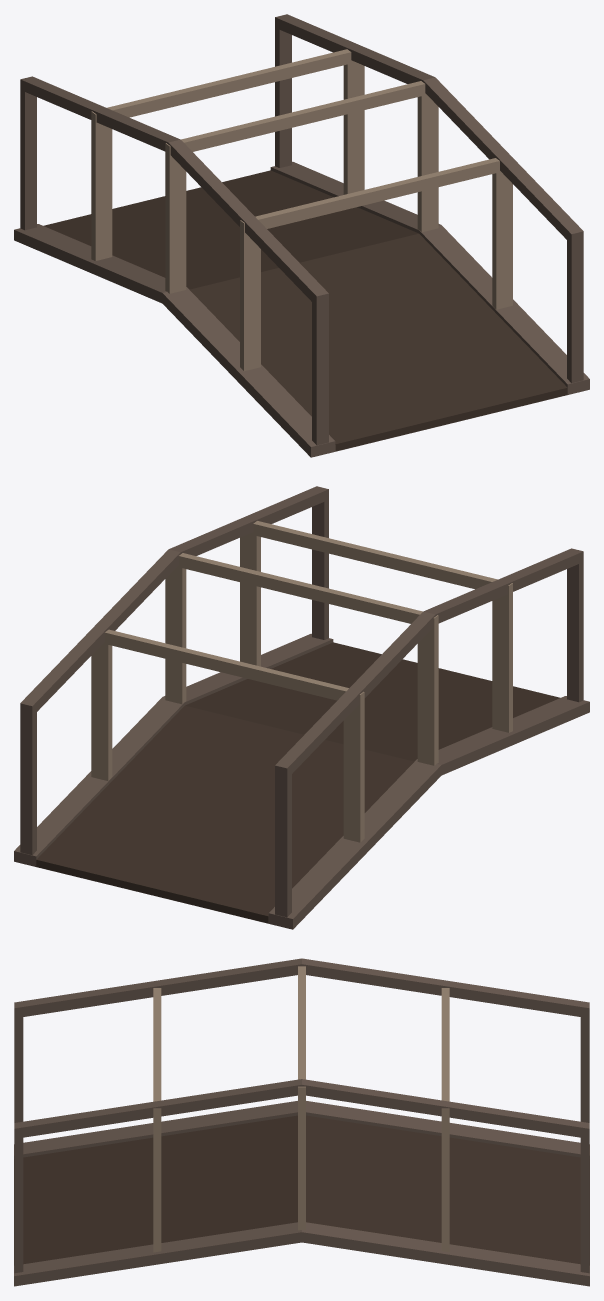
File: Bridge 1.fbx
3 views of the same model, one above another, from view 1: azimuth 30°, elevation 25°; view 2: azimuth 150°, elevation 25°; view 3: azimuth 270°, elevation 25° (orthographic). The views are drawn at different scales.
Visible parts, largest first — view 1: Cube.005, Cube, Cube.001, Cube.002, Cube.004, Cube.003, Cube.006; view 2: Cube.005, Cube, Cube.001, Cube.002, Cube.006, Cube.003, Cube.004; view 3: Cube.005, Cube, Cube.002, Cube.001, Cube.004, Cube.006, Cube.003.
Boxes of the visible parts, x1,y1,x2,y2 form: Cube.005: (43, 170, 567, 451); Cube: (14, 161, 589, 457); Cube.001: (20, 76, 328, 445); Cube.002: (275, 14, 583, 383); Cube.004: (240, 158, 512, 371); Cube.003: (165, 81, 438, 293); Cube.006: (91, 49, 364, 260); Cube.005: (36, 642, 560, 923); Cube: (14, 633, 589, 929); Cube.001: (275, 548, 583, 917); Cube.002: (20, 486, 328, 855); Cube.006: (91, 629, 364, 842); Cube.003: (165, 553, 438, 765); Cube.004: (240, 521, 512, 732); Cube.005: (14, 1115, 589, 1265); Cube: (14, 1101, 589, 1286); Cube.002: (14, 1079, 589, 1273); Cube.001: (14, 958, 589, 1122); Cube.004: (153, 988, 161, 1252); Cube.006: (441, 988, 449, 1252); Cube.003: (298, 966, 305, 1230).
Bounding box in the file's own units: 1194 × 839 × 2202.
